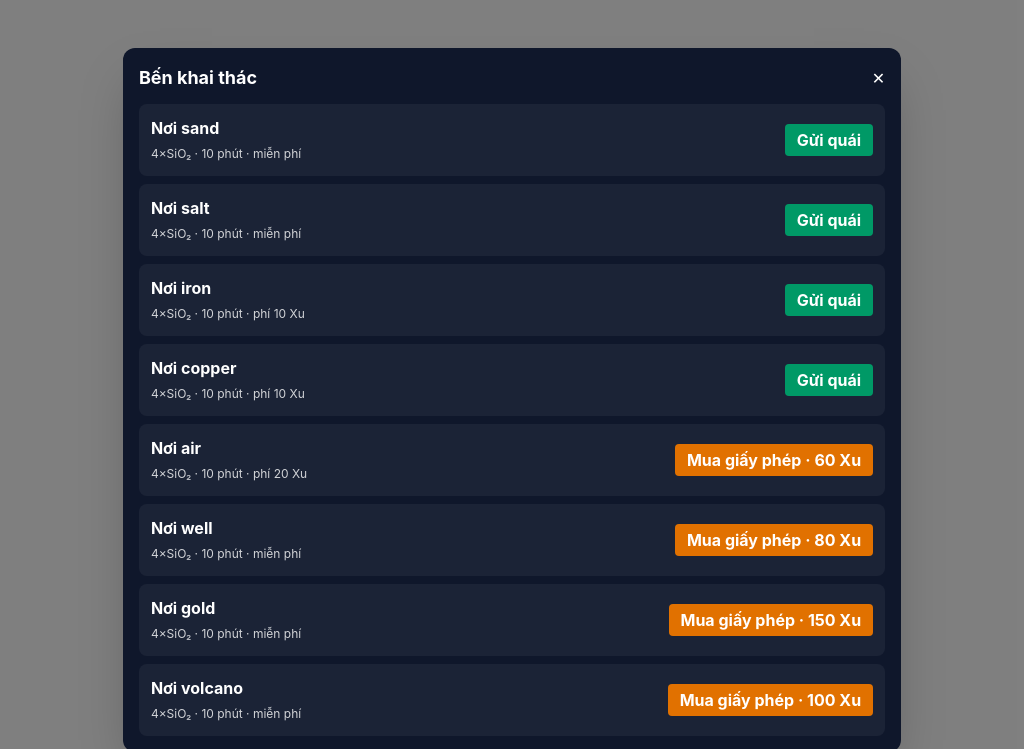
Test case: PLACE_LOCKED shows its own message
Step 1. Click the button "Gửi quái" in the row of "Nơi sand" → (829, 140), box [785,124,873,156]
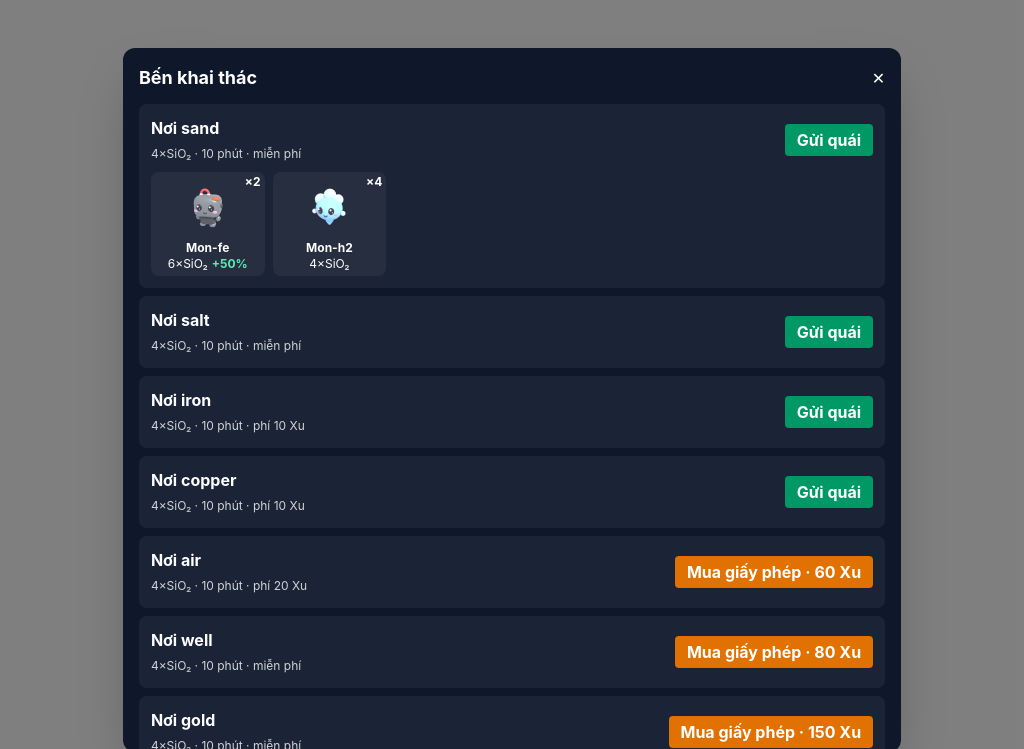
Step 2. Click the button with test id "pick-h2" → (329, 224), box [273,172,386,276]
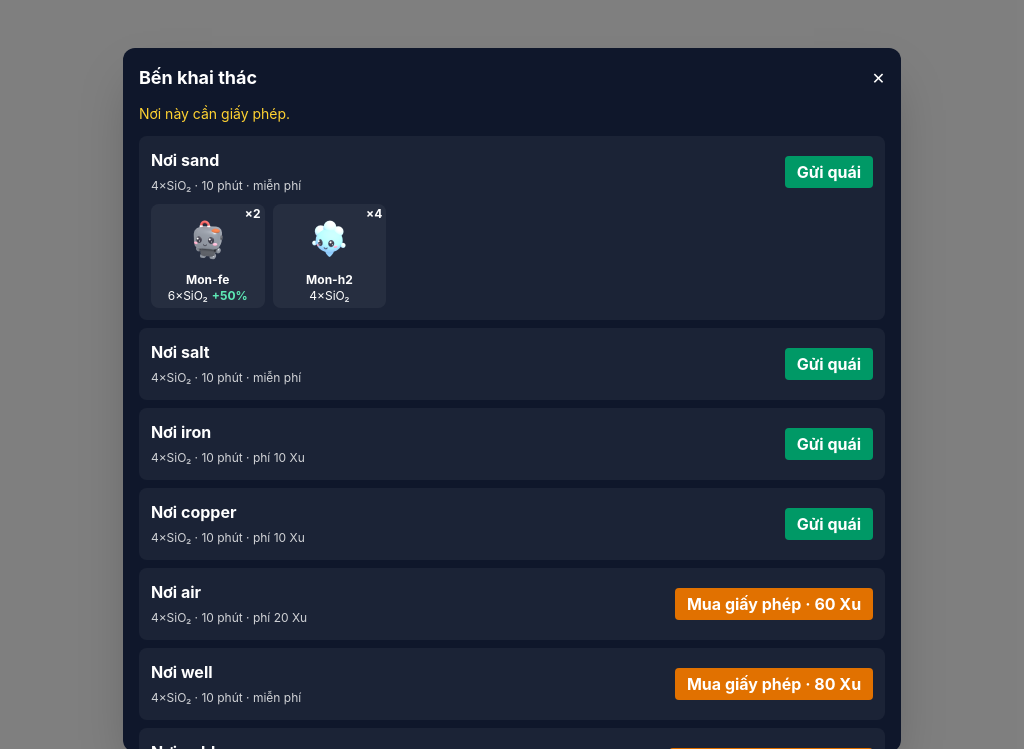
Now the message reads "Nơi này cần giấy phép.", box [139,105,290,122]
